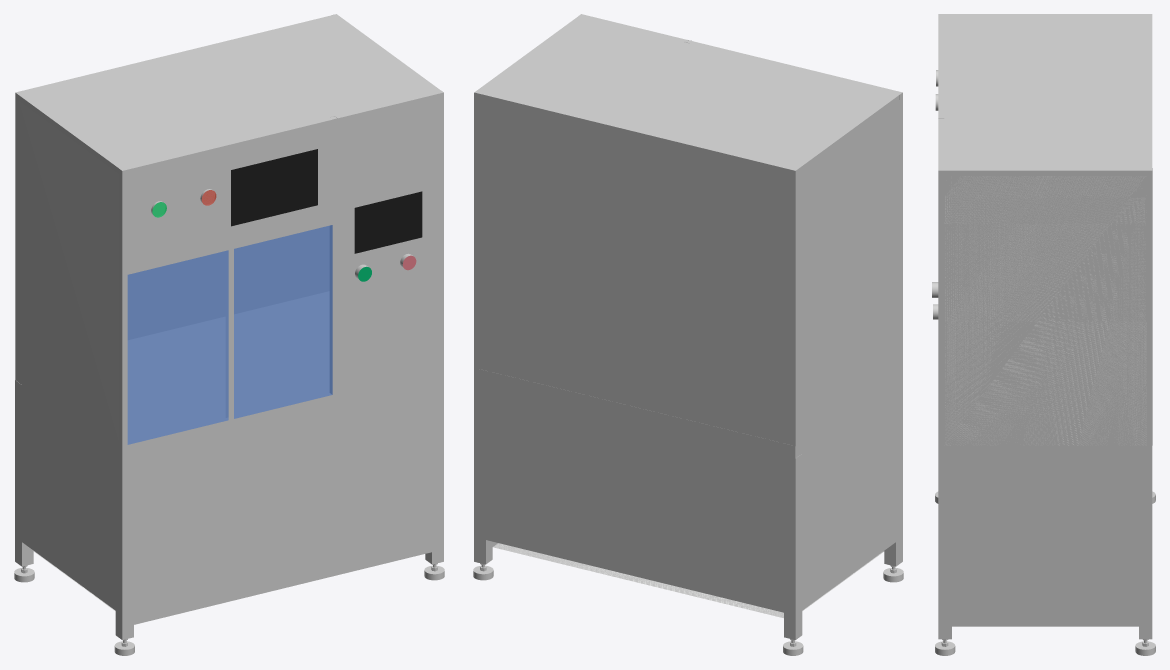
3 renders of one model, left to right at view 1: azimuth 30°, elevation 25°; view 2: azimuth 150°, elevation 25°; view 3: azimuth 270°, elevation 25°, orthographic.
Parts seen in each view (by area): view 1: SketchUp (×7), OP100 (×6), leg (×3), top_rail; view 2: OP100 (×3), SketchUp (×3), leg (×3), top_rail; view 3: OP100 (×2), SketchUp, leg (×2).
Part boxes in pixels (left/top/right/bottom): SketchUp (×7): left=15, top=14, right=443, bottom=624; OP100 (×6): left=18, top=17, right=438, bottom=443; leg (×3): left=15, top=380, right=443, bottom=639; top_rail: left=15, top=292, right=329, bottom=384; OP100 (×3): left=479, top=17, right=899, bottom=444; SketchUp (×3): left=474, top=14, right=902, bottom=618; leg (×3): left=474, top=380, right=902, bottom=639; top_rail: left=474, top=368, right=802, bottom=458; OP100 (×2): left=944, top=16, right=1146, bottom=445; SketchUp: left=938, top=14, right=1152, bottom=626; leg (×2): left=938, top=458, right=1152, bottom=639.
Bounding box in the file's own units: 55.65 × 32.98 × 78.74.
